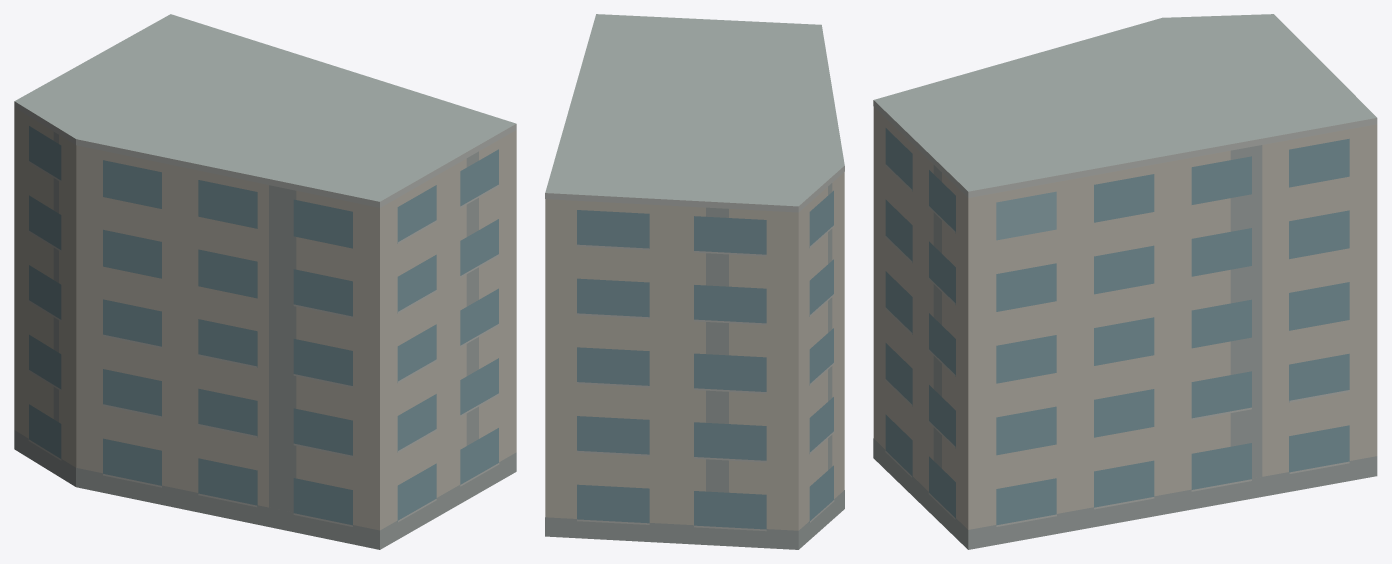
Rendered from survey-upis-32842935.glb.
The picture shows the model from 3 angles, left to right: view 1: azimuth 30°, elevation 25°; view 2: azimuth 150°, elevation 25°; view 3: azimuth 270°, elevation 25°; orthographic projection. The views are drawn at different scales.
Visible parts, largest first — view 1: survey-upis-32842935.tmp; view 2: survey-upis-32842935.tmp; view 3: survey-upis-32842935.tmp.
Boxes of the visible parts, x1,y1,x2,y2 form: survey-upis-32842935.tmp: [14, 14, 516, 549]; survey-upis-32842935.tmp: [545, 14, 844, 549]; survey-upis-32842935.tmp: [873, 14, 1377, 549].
Bounding box in the file's own units: 14.62 × 13.74 × 17.52.
